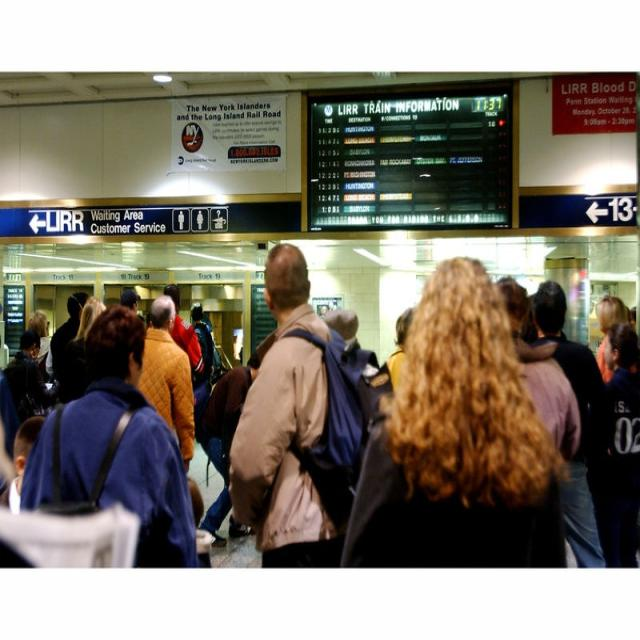body: (333, 250, 572, 639), (17, 302, 202, 569), (225, 241, 347, 570), (530, 277, 619, 570), (491, 274, 582, 465), (197, 344, 263, 548), (134, 292, 196, 477), (0, 495, 150, 570), (598, 322, 640, 570), (1, 328, 54, 426), (0, 414, 48, 516), (52, 290, 92, 405), (386, 305, 422, 428), (46, 290, 92, 380), (162, 282, 204, 374), (594, 293, 636, 383), (182, 463, 218, 550), (522, 290, 570, 348), (0, 282, 14, 471), (188, 301, 215, 391), (26, 308, 54, 377), (322, 307, 361, 349), (117, 289, 147, 325), (624, 295, 638, 338)
